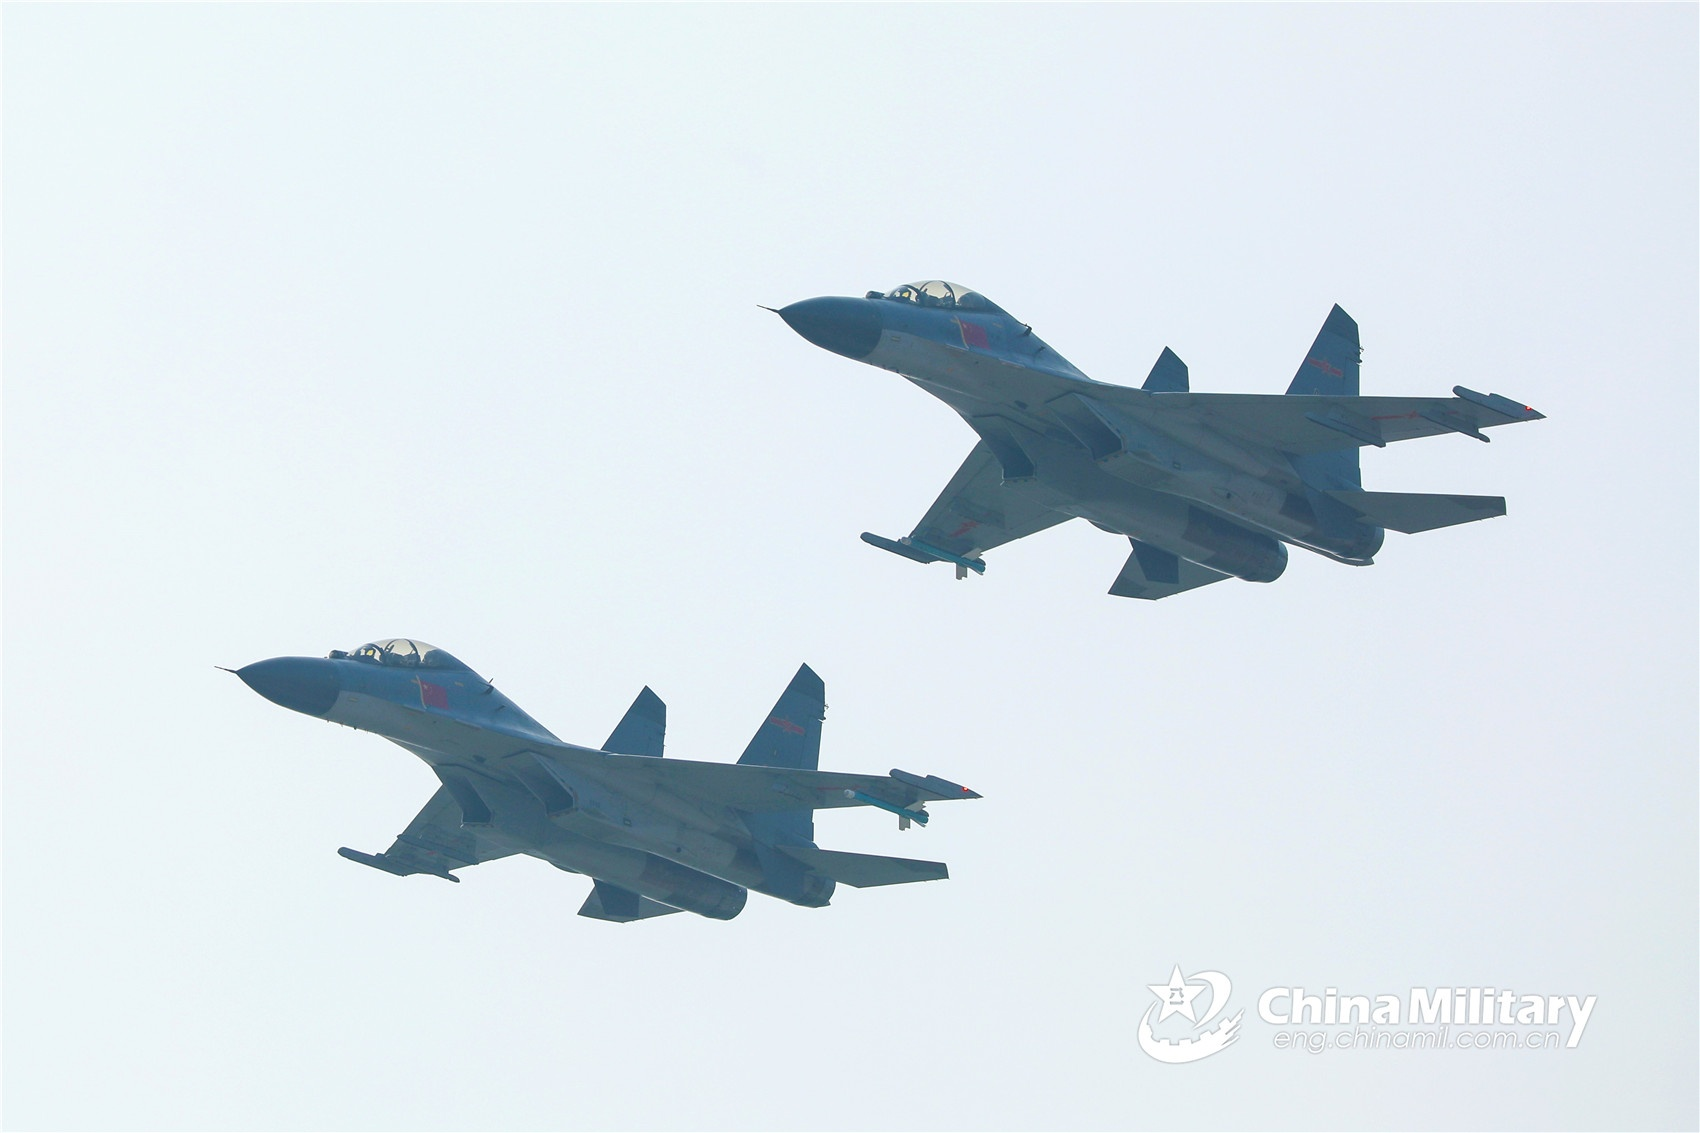airplane: (763, 271, 1553, 599), (206, 623, 981, 926)
